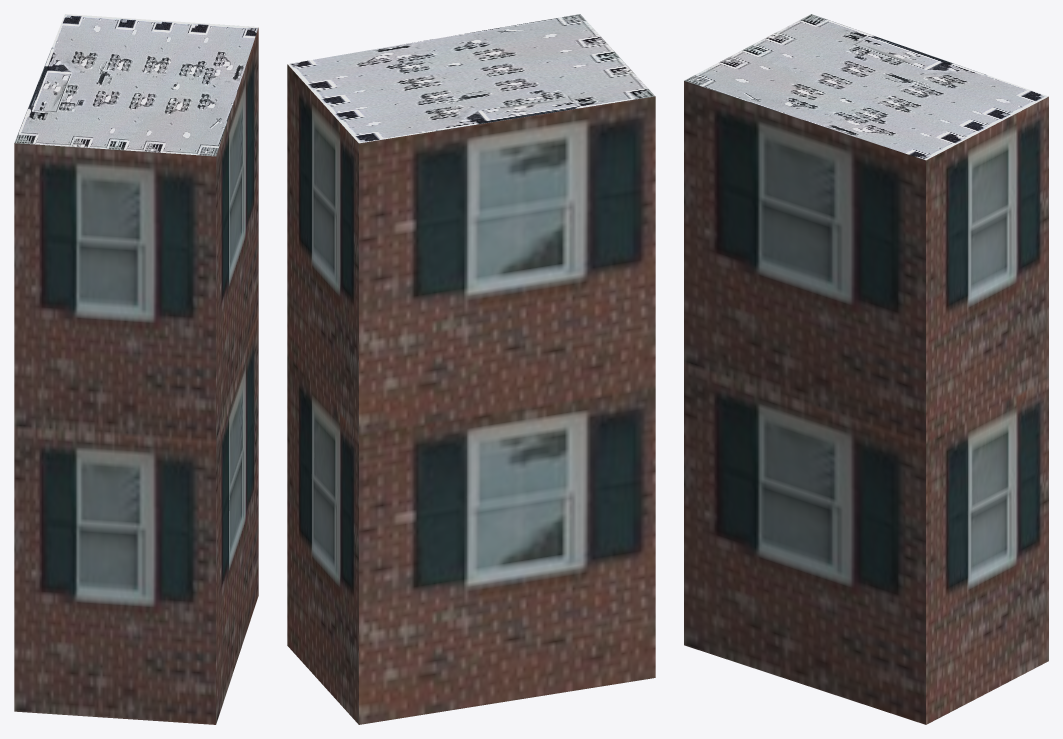
The model's file is ResTex__2116.fbx.
3 views of the same model, side by side, from view 1: azimuth 30°, elevation 25°; view 2: azimuth 150°, elevation 25°; view 3: azimuth 270°, elevation 25° (orthographic). The views are drawn at different scales.
Parts seen in each view (by area): view 1: CityEngineMaterial_14_m, CityEngineMaterial_4_m; view 2: CityEngineMaterial_14_m, CityEngineMaterial_4_m; view 3: CityEngineMaterial_14_m, CityEngineMaterial_4_m.
Boxes of the visible parts, box(x1,y1,x2,y2) form: CityEngineMaterial_14_m: box(14, 28, 258, 724); CityEngineMaterial_4_m: box(14, 14, 258, 156); CityEngineMaterial_14_m: box(287, 64, 655, 724); CityEngineMaterial_4_m: box(287, 14, 654, 143); CityEngineMaterial_14_m: box(684, 81, 1048, 724); CityEngineMaterial_4_m: box(684, 14, 1048, 160).
Size of the model in its own units: 3.34 by 6 by 3.52.
2 materials, 2 textured.
